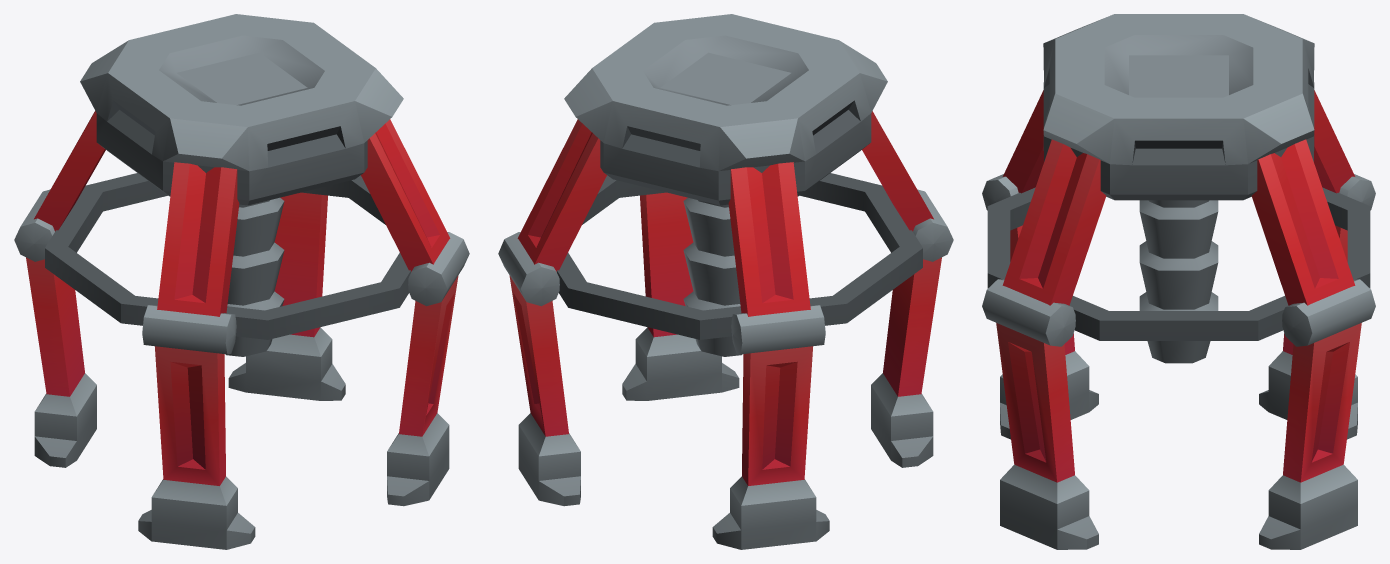
File: drill_structure.obj
3 views of the same model, side by side, from view 1: azimuth 30°, elevation 25°; view 2: azimuth 150°, elevation 25°; view 3: azimuth 270°, elevation 25° (orthographic). The views are drawn at different scales.
Size of the model in its own units: 1.75 by 2 by 1.75.
Materials: 1 (1 with a texture image).
